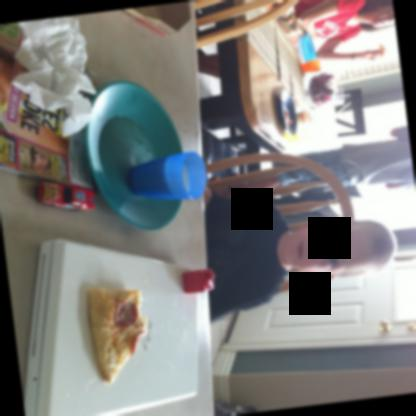backpack: (213, 402, 248, 416)
